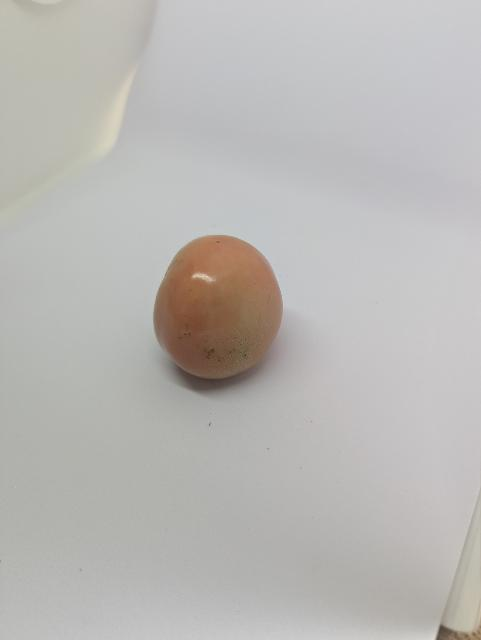turning: (150, 229, 296, 395)
